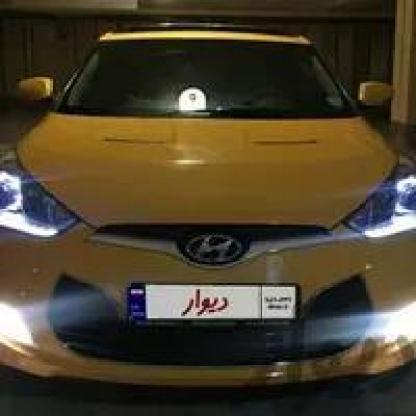Car: (0, 2, 416, 416)
